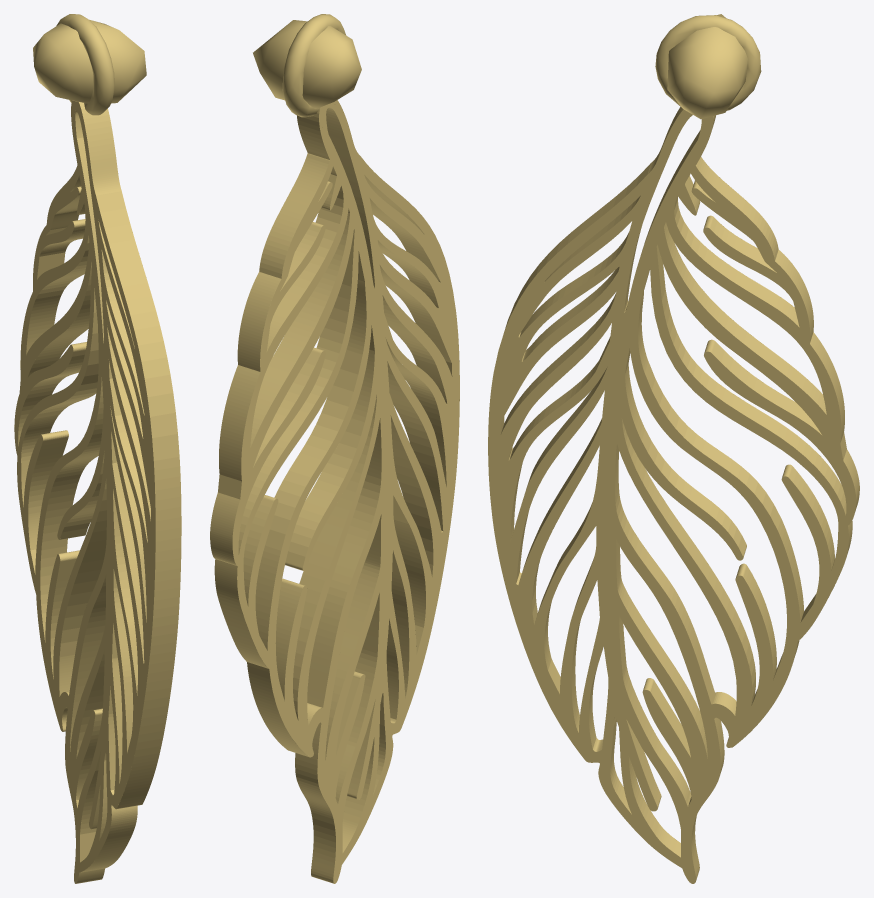
File: earringsSimple22.glb
3 views of the same model, side by side, from view 1: azimuth 30°, elevation 25°; view 2: azimuth 150°, elevation 25°; view 3: azimuth 270°, elevation 25° (orthographic).
Parts seen in each view (by area): view 1: Feathers-1, Cylinder; view 2: Feathers-1, Cylinder; view 3: Feathers-1, Cylinder.
Part boxes in pixels (x1=…): Feathers-1: x1=14, y1=14, x2=181, y2=883; Cylinder: x1=33, y1=19, x2=146, y2=103; Feathers-1: x1=210, y1=14, x2=459, y2=883; Cylinder: x1=253, y1=20, x2=361, y2=108; Feathers-1: x1=488, y1=15, x2=859, y2=883; Cylinder: x1=667, y1=14, x2=747, y2=119.
Bounding box in the file's own units: 0.00835 × 0.064 × 0.025.
